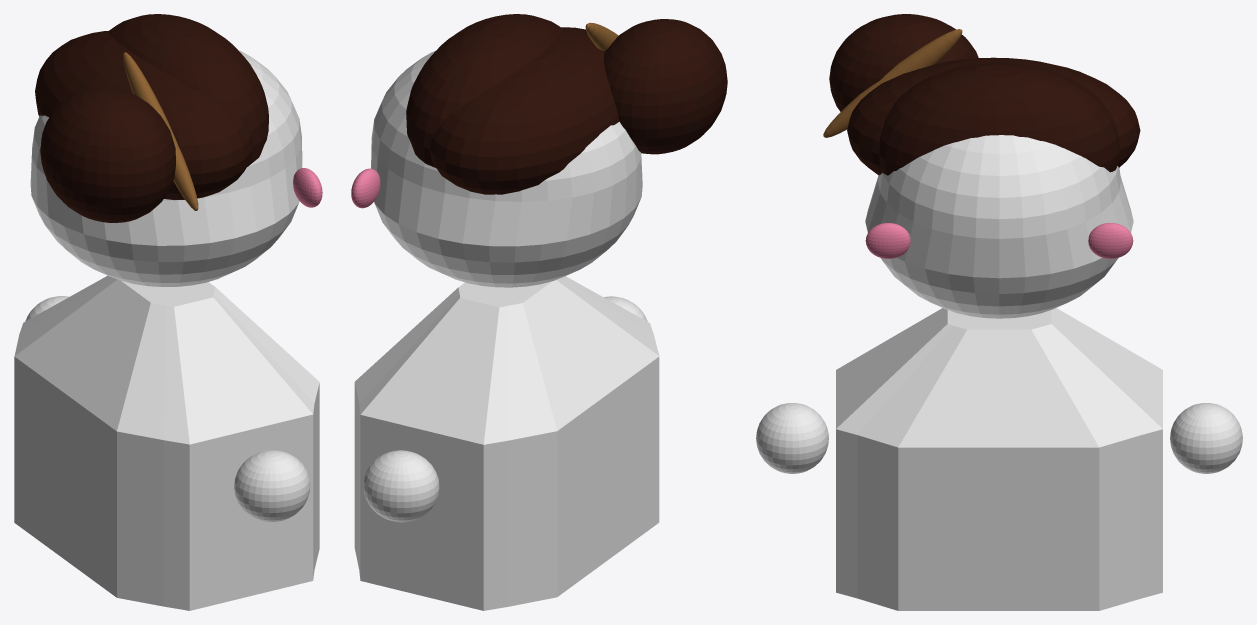
File: Martha.fbx
3 renders of one model, left to right at view 1: azimuth 30°, elevation 25°; view 2: azimuth 150°, elevation 25°; view 3: azimuth 270°, elevation 25°, orthographic.
Visible parts, largest first — view 1: Cube, Sphere, Sphere.005, Sphere.006, Sphere.007, Sphere.001, Sphere.008, Sphere.004; view 2: Cube, Sphere, Sphere.006, Sphere.005, Sphere.007, Sphere.001, Sphere.004, Sphere.008; view 3: Cube, Sphere, Sphere.007, Sphere.001, Sphere.005, Sphere.006, Sphere.004, Sphere.008.
Boxes of the visible parts, x1,y1,x2,y2 form: Cube: (14,275,319,610); Sphere: (30,50,302,286); Sphere.005: (40,87,175,222); Sphere.006: (35,31,253,200); Sphere.007: (108,14,268,166); Sphere.001: (25,296,310,522); Sphere.008: (123,52,198,210); Sphere.004: (293,168,322,207); Cube: (354,276,659,610); Sphere: (371,51,642,287); Sphere.006: (429,27,619,194); Sphere.005: (603,19,727,154); Sphere.007: (406,14,562,167); Sphere.001: (363,296,647,522); Sphere.004: (351,168,380,208); Sphere.008: (585,22,618,50); Cube: (836,308,1162,610); Sphere: (865,135,1133,318); Sphere.007: (879,62,1119,175); Sphere.001: (756,403,1242,473); Sphere.005: (829,14,978,111); Sphere.006: (847,57,1140,175); Sphere.004: (865,223,1133,258); Sphere.008: (823,29,962,137).
Bounding box in the file's own units: 234 × 406 × 356.
